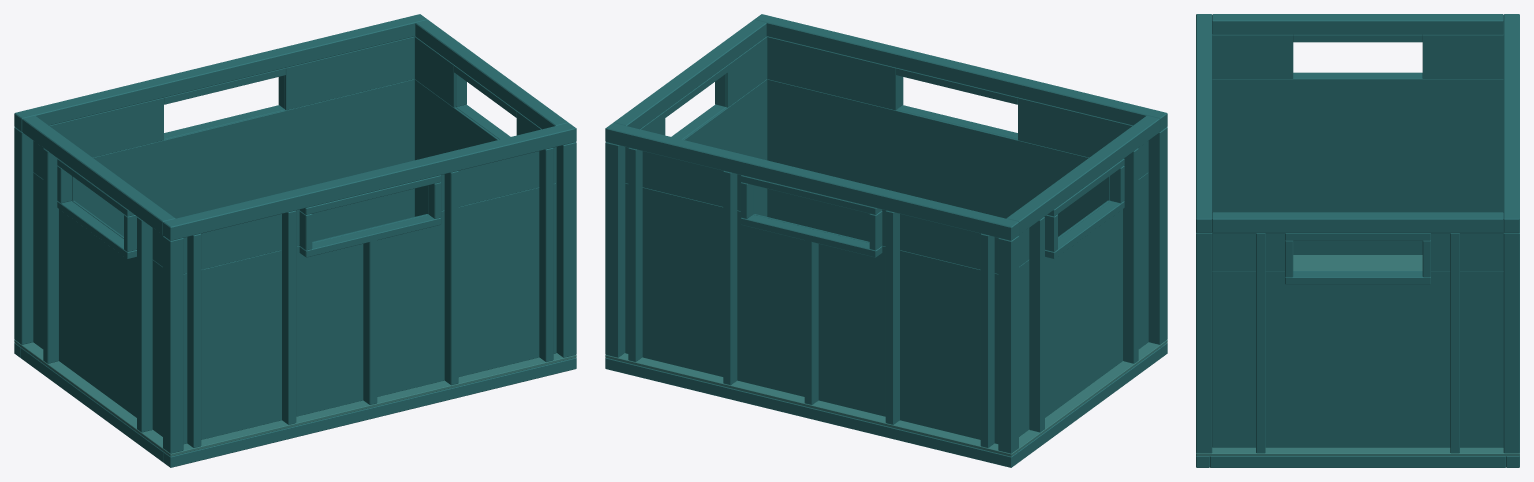
File: order-tote.glb
3 views of the same model, side by side, from view 1: azimuth 30°, elevation 25°; view 2: azimuth 150°, elevation 25°; view 3: azimuth 270°, elevation 25° (orthographic). The views are drawn at different scales.
Parts seen in each view (by area): view 1: order-tote; view 2: order-tote; view 3: order-tote.
Part boxes in pixels (<box>): order-tote: <box>14,14,576,467</box>; order-tote: <box>605,14,1167,467</box>; order-tote: <box>1196,14,1519,467</box>.
Bounding box in the file's own units: 0.6 × 0.34 × 0.4.
